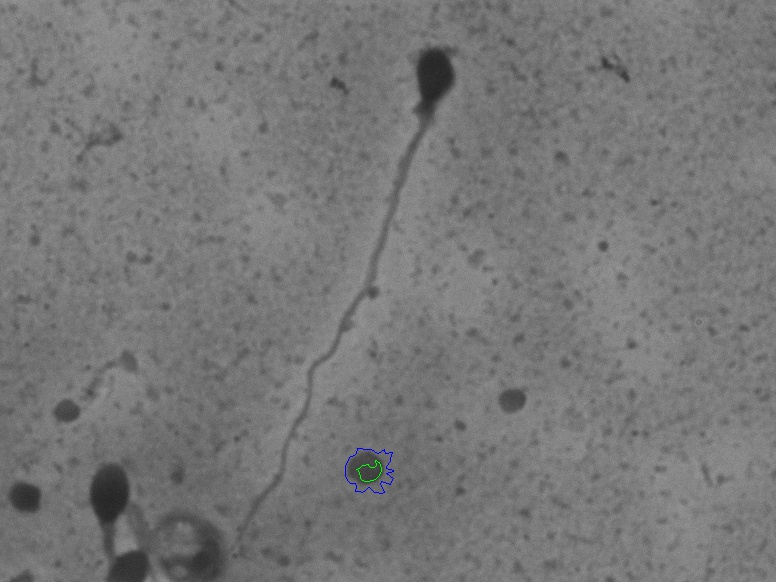Abnormal: (225, 38, 490, 532)
